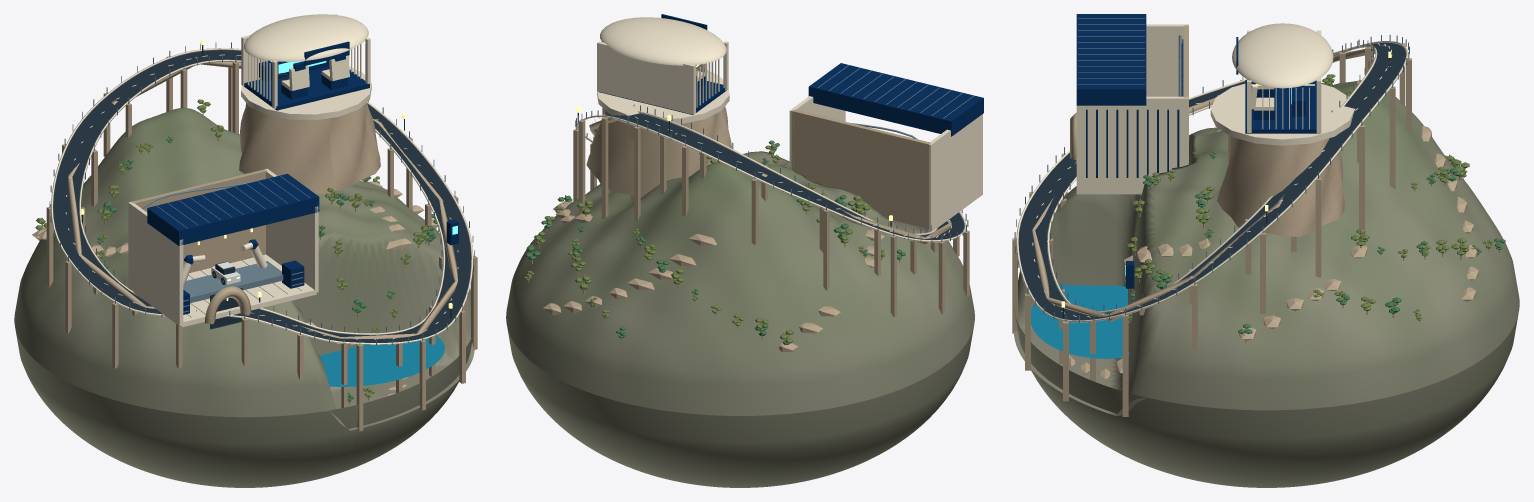
The model's file is hyundai-low.glb.
3 views of the same model, side by side, from view 1: azimuth 30°, elevation 25°; view 2: azimuth 150°, elevation 25°; view 3: azimuth 270°, elevation 25° (orthographic). The views are drawn at different scales.
Parts seen in each view (by area): view 1: coastal_layered_terrain, limestone, ivory, graphite, Hyundai_Blue_002C5F, steel, water, coastal_olive, foliage; view 2: coastal_layered_terrain, limestone, ivory, Hyundai_Blue_002C5F, graphite, coastal_olive, steel, foliage; view 3: coastal_layered_terrain, ivory, limestone, Hyundai_Blue_002C5F, graphite, water, coastal_olive, steel, foliage, wood.
Boxes of the visible parts, left/top/right/bottom form: coastal_layered_terrain: left=14, top=107, right=474, bottom=487; limestone: left=32, top=48, right=477, bottom=431; ivory: left=51, top=14, right=473, bottom=344; graphite: left=53, top=45, right=470, bottom=342; Hyundai_Blue_002C5F: left=147, top=41, right=458, bottom=314; steel: left=49, top=42, right=474, bottom=345; water: left=319, top=336, right=444, bottom=386; coastal_olive: left=35, top=99, right=434, bottom=397; foliage: left=50, top=136, right=437, bottom=401; coastal_layered_terrain: left=506, top=151, right=974, bottom=487; limestone: left=543, top=106, right=969, bottom=352; ivory: left=577, top=17, right=982, bottom=242; Hyundai_Blue_002C5F: left=599, top=14, right=983, bottom=136; graphite: left=577, top=76, right=964, bottom=239; coastal_olive: left=524, top=144, right=885, bottom=344; steel: left=575, top=65, right=973, bottom=242; foliage: left=525, top=140, right=905, bottom=338; coastal_layered_terrain: left=1014, top=80, right=1519, bottom=487; ivory: left=1016, top=23, right=1407, bottom=322; limestone: left=1012, top=25, right=1478, bottom=416; Hyundai_Blue_002C5F: left=1076, top=14, right=1319, bottom=288; graphite: left=1018, top=42, right=1406, bottom=320; water: left=1031, top=285, right=1129, bottom=358; coastal_olive: left=1127, top=74, right=1493, bottom=323; steel: left=1014, top=18, right=1409, bottom=322; foliage: left=1124, top=78, right=1505, bottom=333; wood: left=1129, top=74, right=1500, bottom=342.
Bounding box in the file's own units: 18.9 × 18.55 × 18.96.
